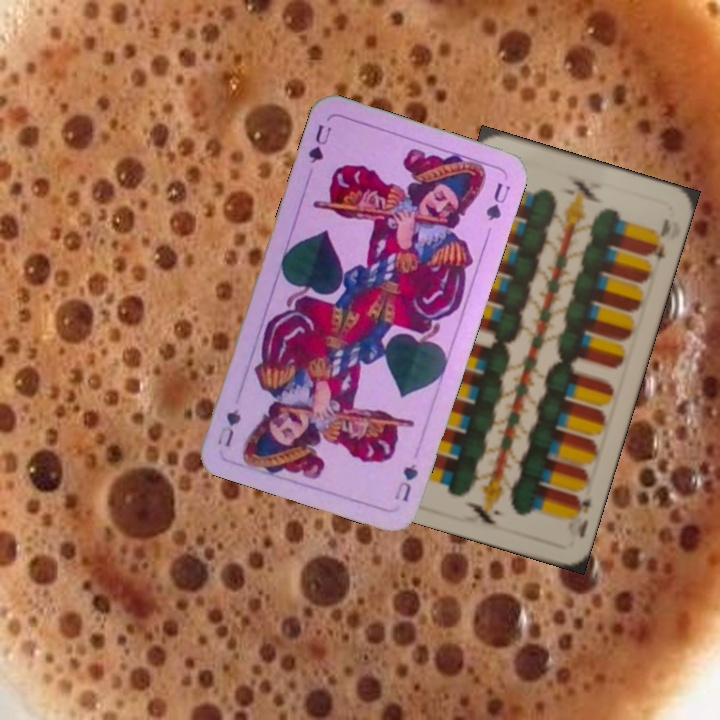E10: (571, 490, 594, 540)
GU: (390, 459, 421, 505), (304, 120, 334, 166)
